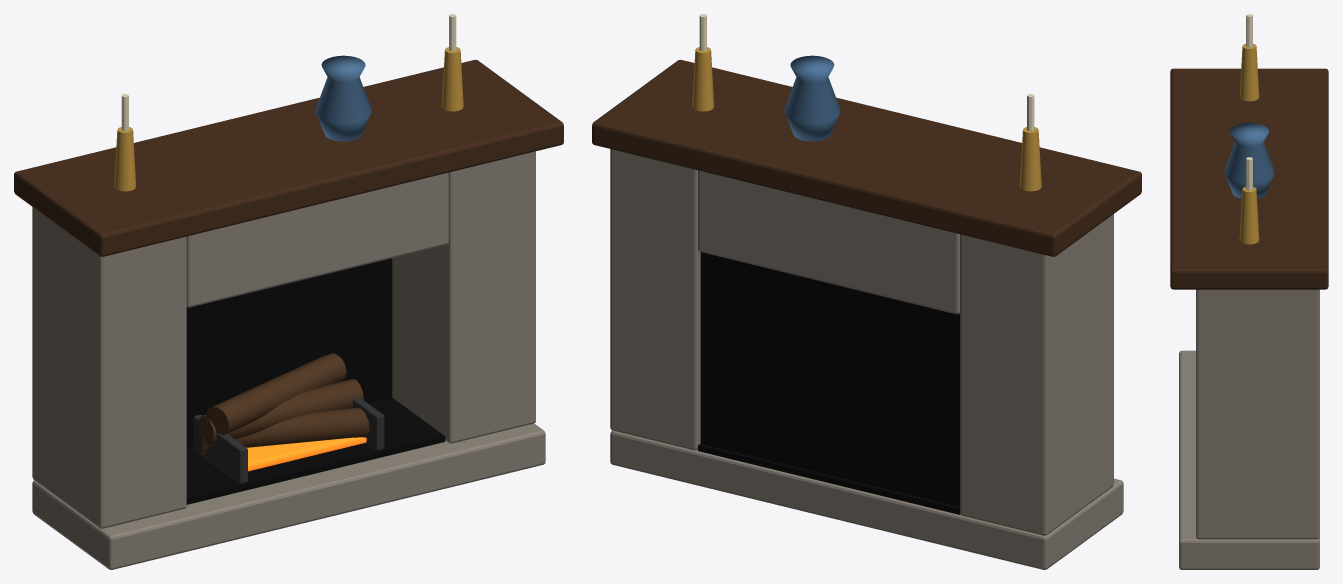
File: fireplace.glb
3 views of the same model, side by side, from view 1: azimuth 30°, elevation 25°; view 2: azimuth 150°, elevation 25°; view 3: azimuth 270°, elevation 25° (orthographic). The views are drawn at different scales.
Visible parts, largest first — view 1: fireplace; view 2: fireplace; view 3: fireplace.
Part boxes in pixels (left/top/right/bottom): fireplace: left=14, top=14, right=563, bottom=569; fireplace: left=592, top=14, right=1141, bottom=569; fireplace: left=1170, top=14, right=1328, bottom=569.
Size of the model in its own units: 1.7 by 1.52 by 0.56.
